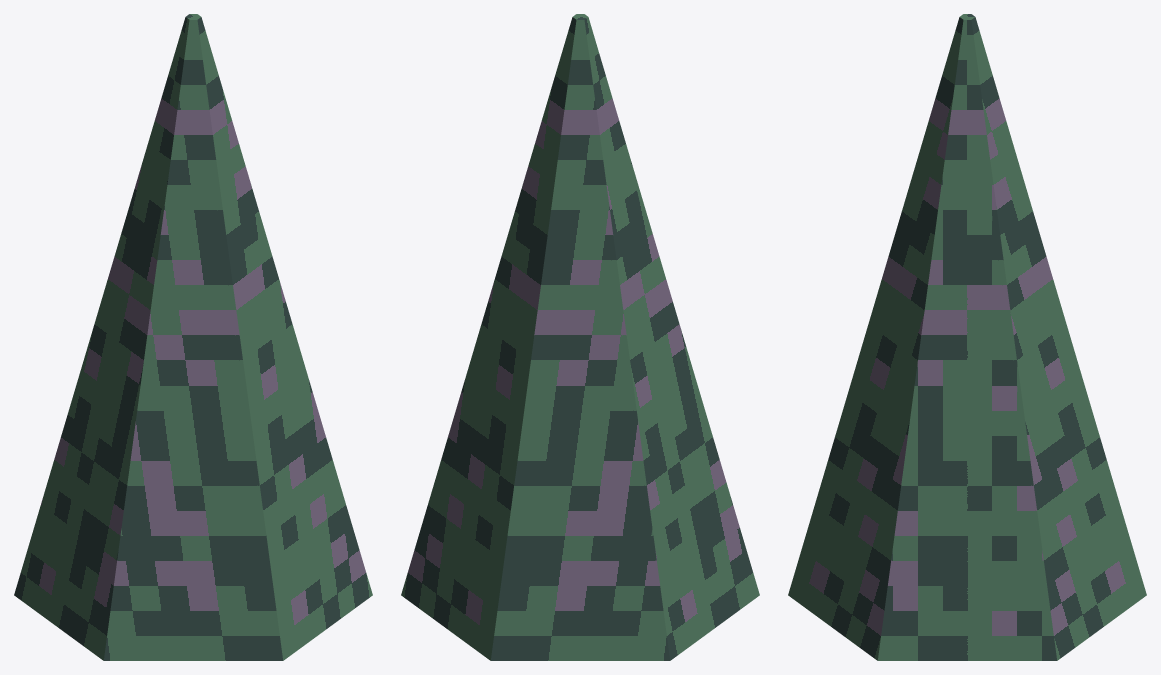
File: a29_vinha_com_espinhos.glb
The picture shows the model from 3 angles, left to right: view 1: azimuth 30°, elevation 25°; view 2: azimuth 150°, elevation 25°; view 3: azimuth 270°, elevation 25°; orthographic projection.
Visible parts, largest first — view 1: a29_vinha_com_espinhos; view 2: a29_vinha_com_espinhos; view 3: a29_vinha_com_espinhos.
Boxes of the visible parts, x1,y1,x2,y2 form: a29_vinha_com_espinhos: [14, 14, 372, 660]; a29_vinha_com_espinhos: [401, 14, 759, 660]; a29_vinha_com_espinhos: [788, 14, 1146, 660].
Size of the model in its own units: 0.7794 by 1.6 by 0.9.
Materials: 1 (1 with a texture image).
